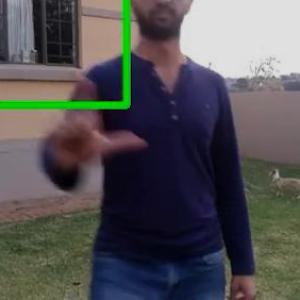land_hand: (47, 67, 146, 179)
